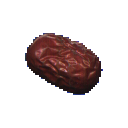gd: (18, 20, 112, 106)
